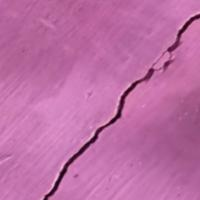crack: (35, 8, 199, 199)
